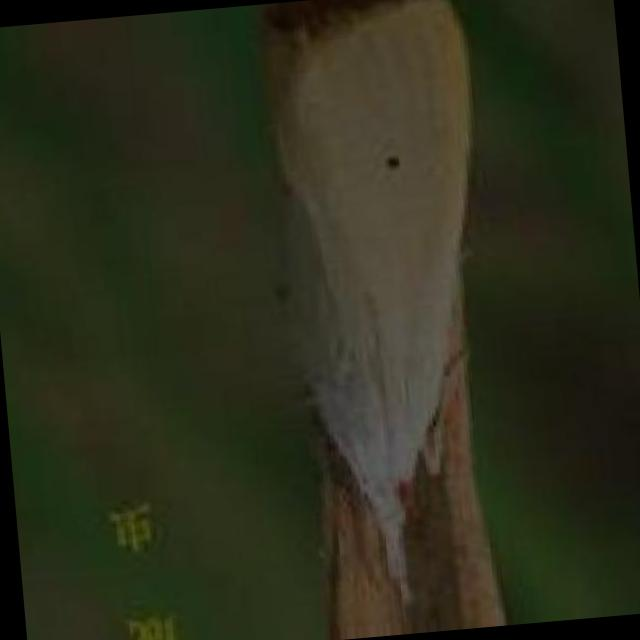stem-borer: (249, 0, 521, 623)
